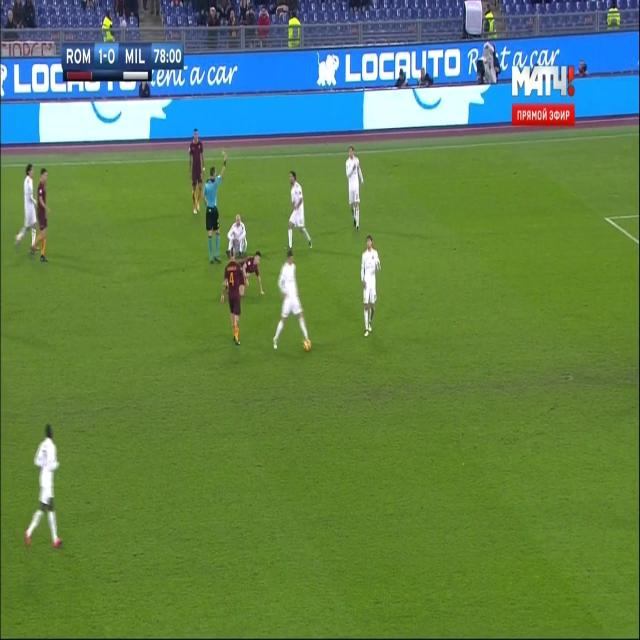Ball: (302, 332, 314, 353)
Player: (20, 420, 63, 550), (270, 248, 312, 355), (284, 169, 318, 251), (221, 245, 245, 348), (30, 164, 54, 265), (360, 234, 382, 342), (13, 158, 37, 250), (345, 146, 367, 234), (187, 129, 207, 217), (223, 210, 250, 258), (238, 252, 266, 298)
Referee: (201, 151, 229, 269)
